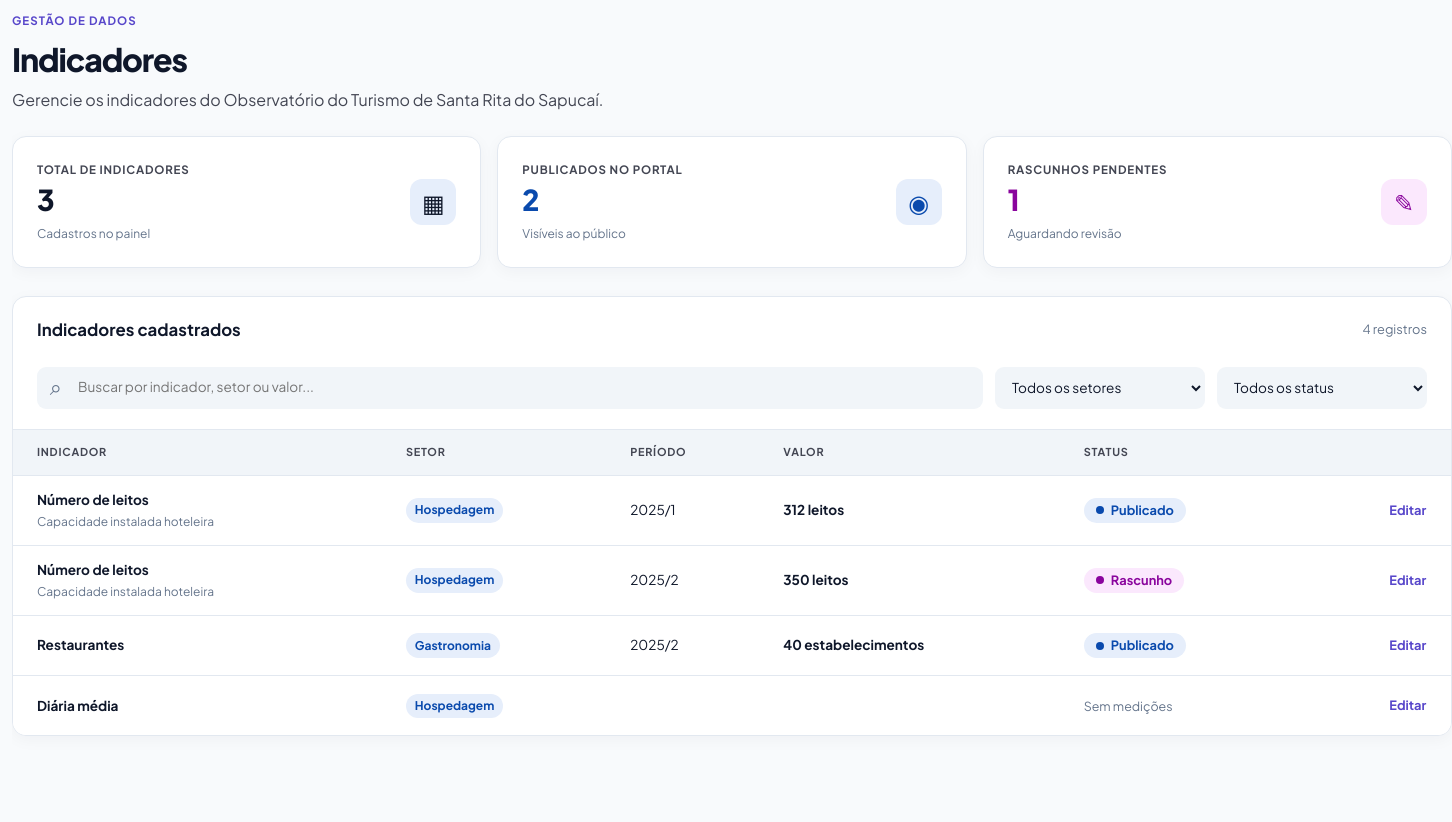
Test: AdminPage › filtra por setor e mostra tela vazia com opção de limpar filtros
The width and height of the screenshot is (1452, 822).
Expected: the table is shown, [13,430,1451,735]
Select "Gastronomia" in the dropdown named "Filtrar por setor" at (1100, 388), box [995,367,1205,409]
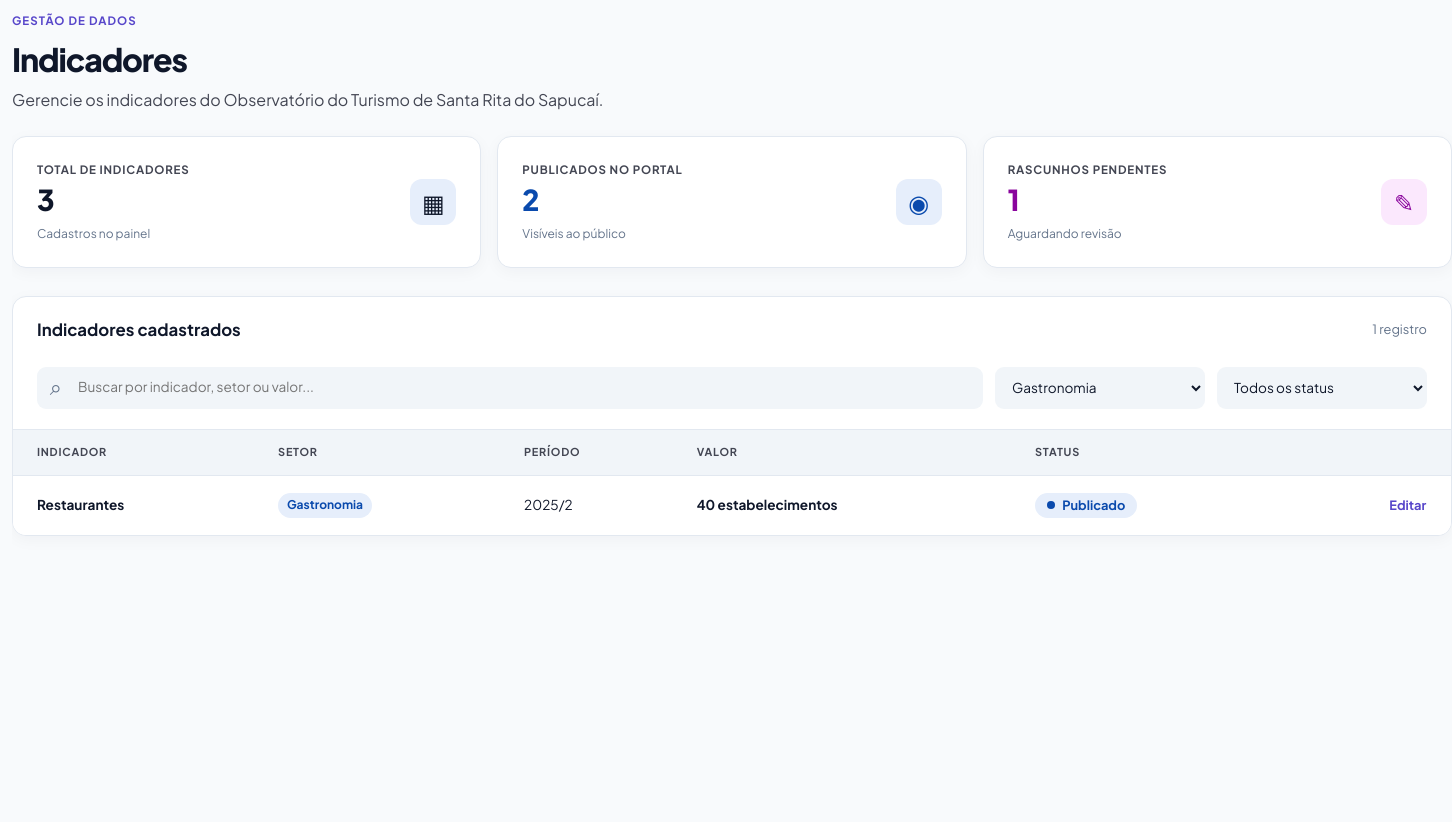
Select "Rascunho" in the dropdown named "Filtrar por status" at (1322, 388), box [1217,367,1427,409]
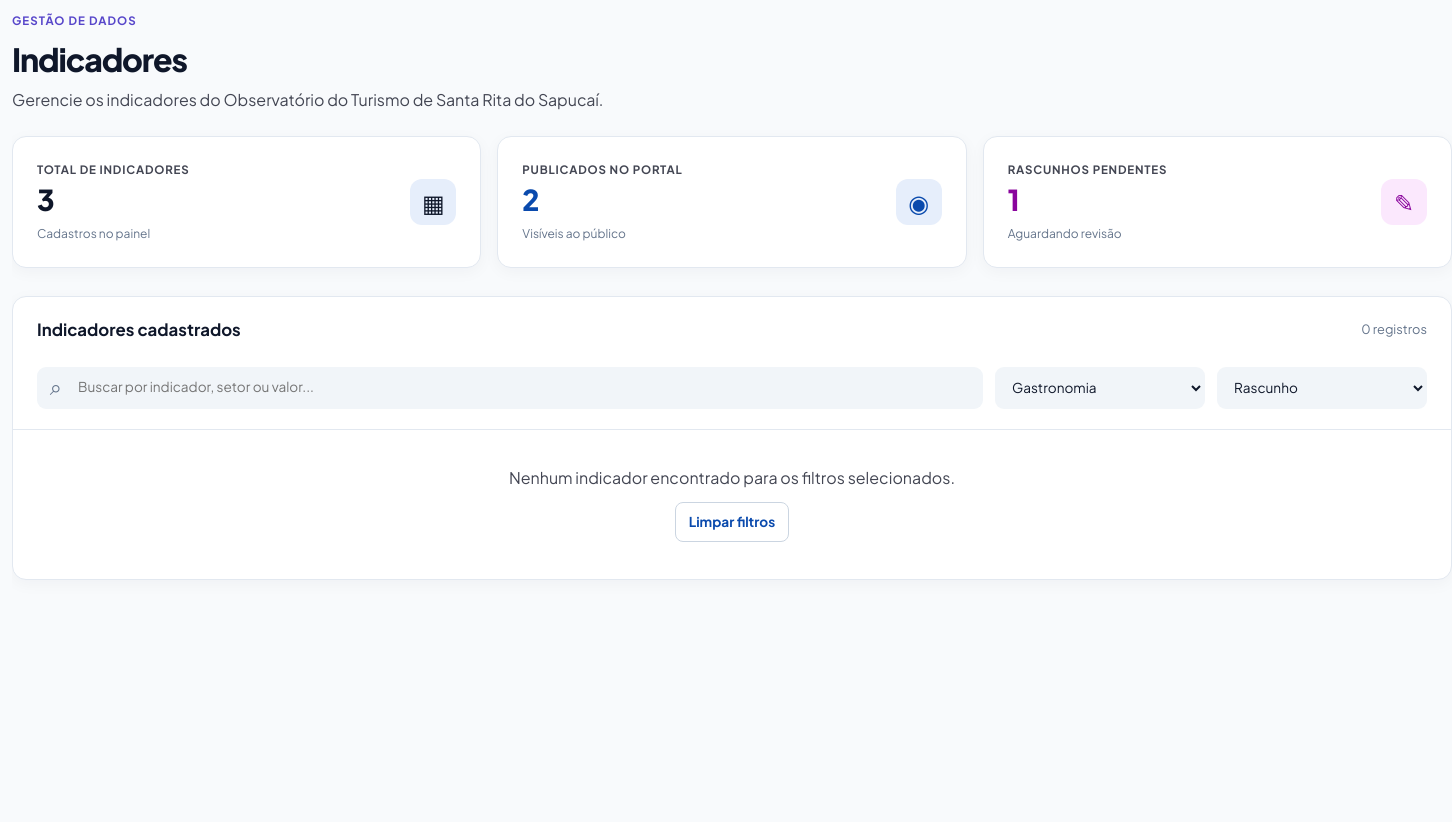
Now the table is gone
Now the text "Nenhum indicador encontrado para os filtros selecionados." is shown, box [509,466,955,490]
Click the button "Limpar filtros" at (732, 522), box [675,502,789,542]
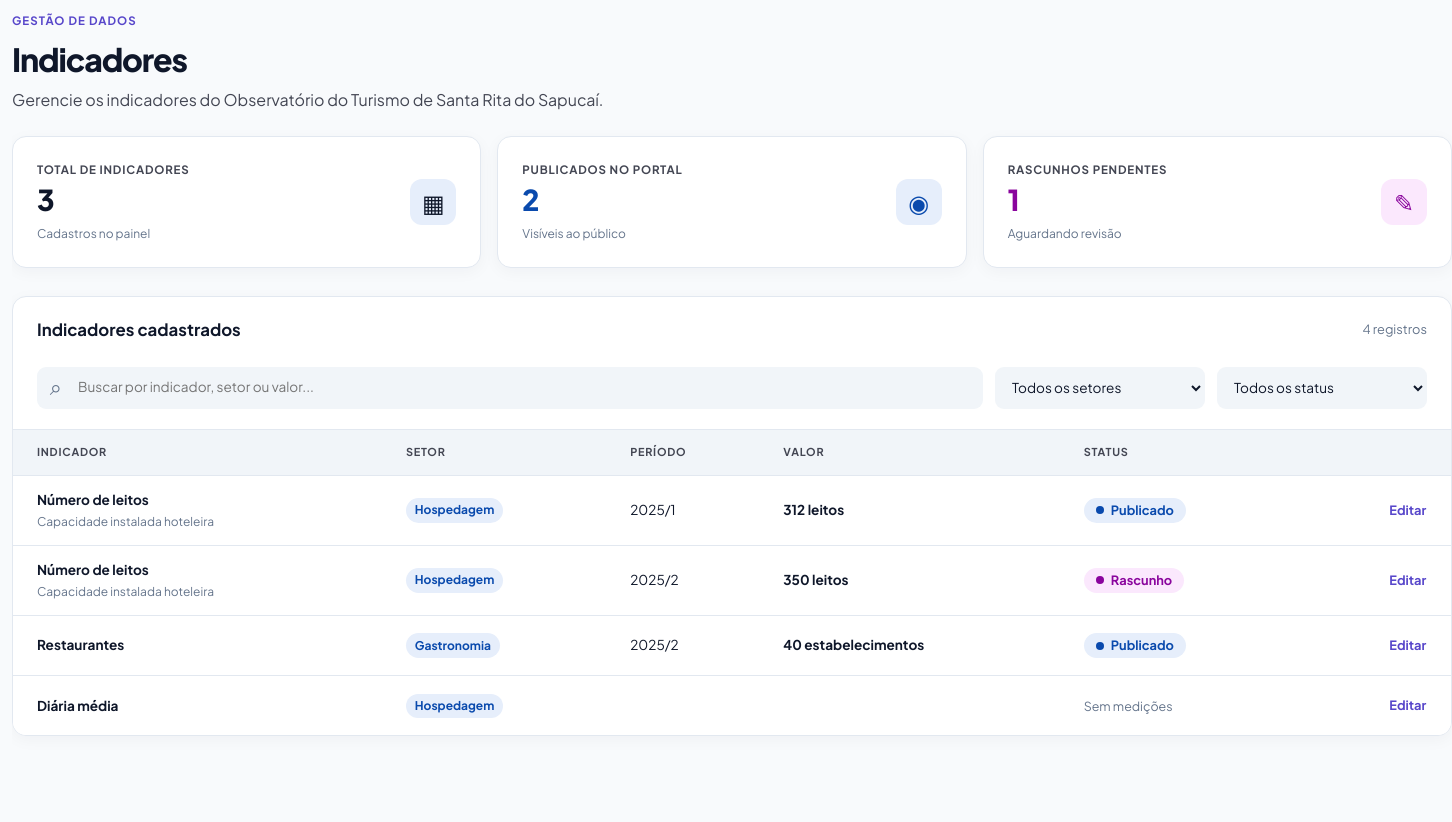
Now the table is shown, box [13,430,1451,735]
